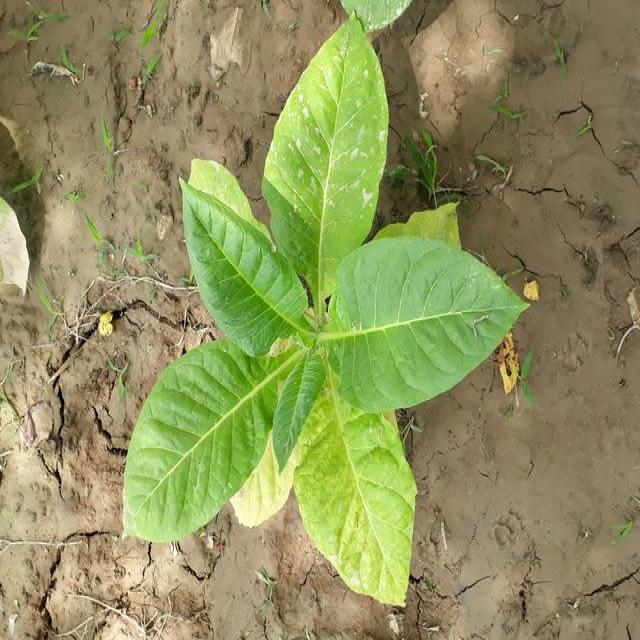crop: (132, 16, 527, 606)
